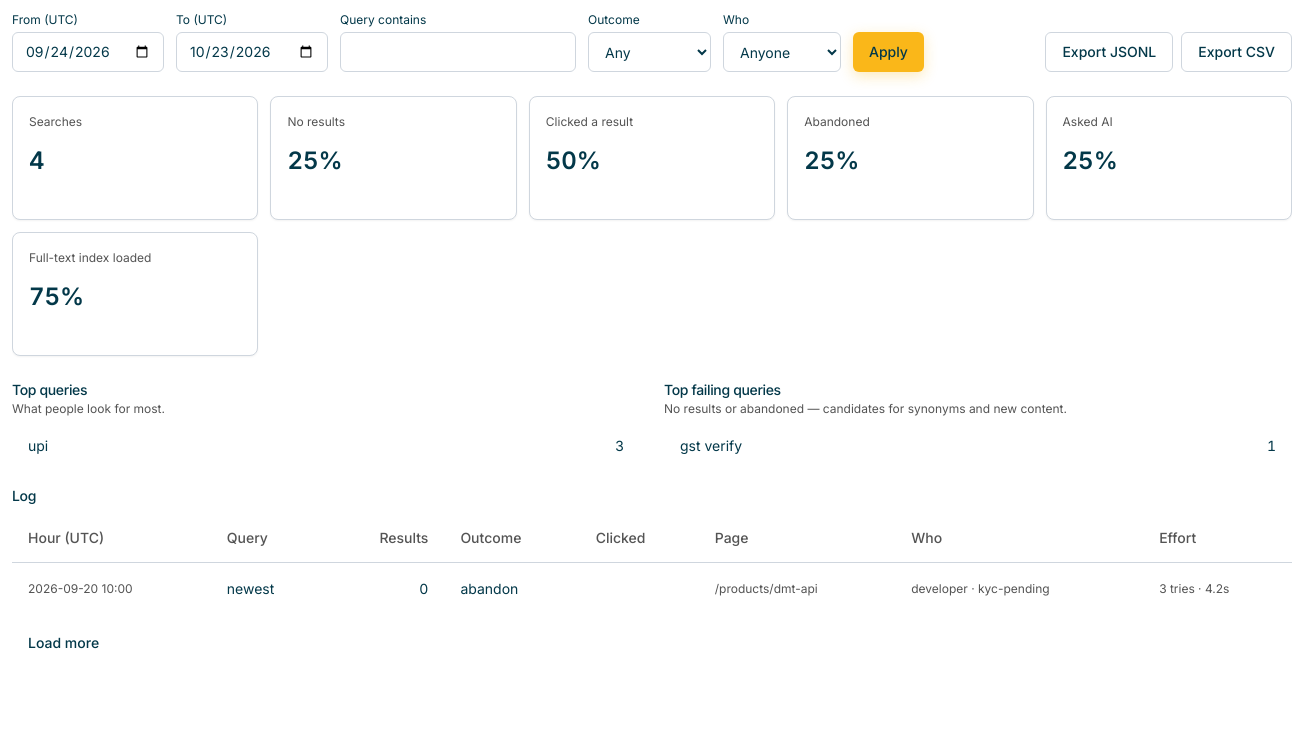
AdminSearchLogs › appends the next page on Load more, then hides the button
Click the button "Load more": [64, 642] box x1=12 y1=622 x2=115 y2=662
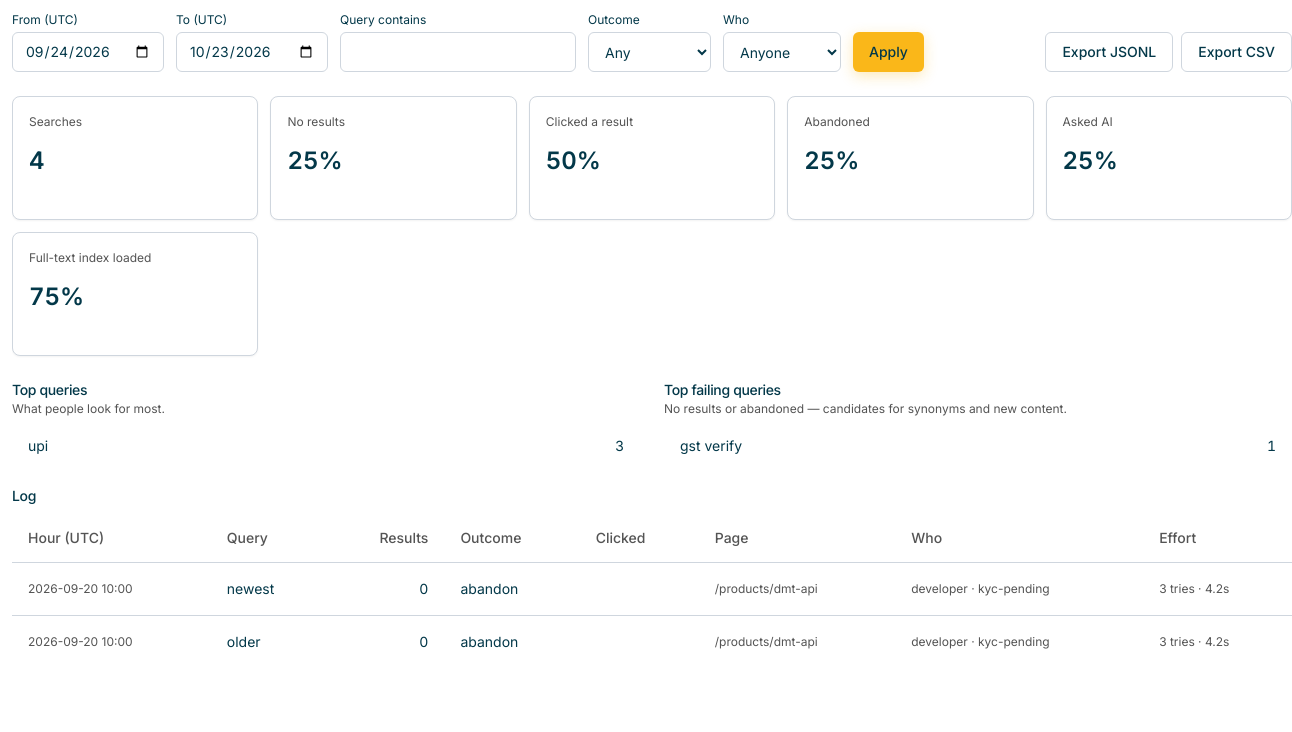
Expected: the text "newest" is shown, x1=211 y1=562 x2=326 y2=615
Expected: the text "older" is shown, x1=211 y1=615 x2=326 y2=668
Expected: the button "Load more" is gone
